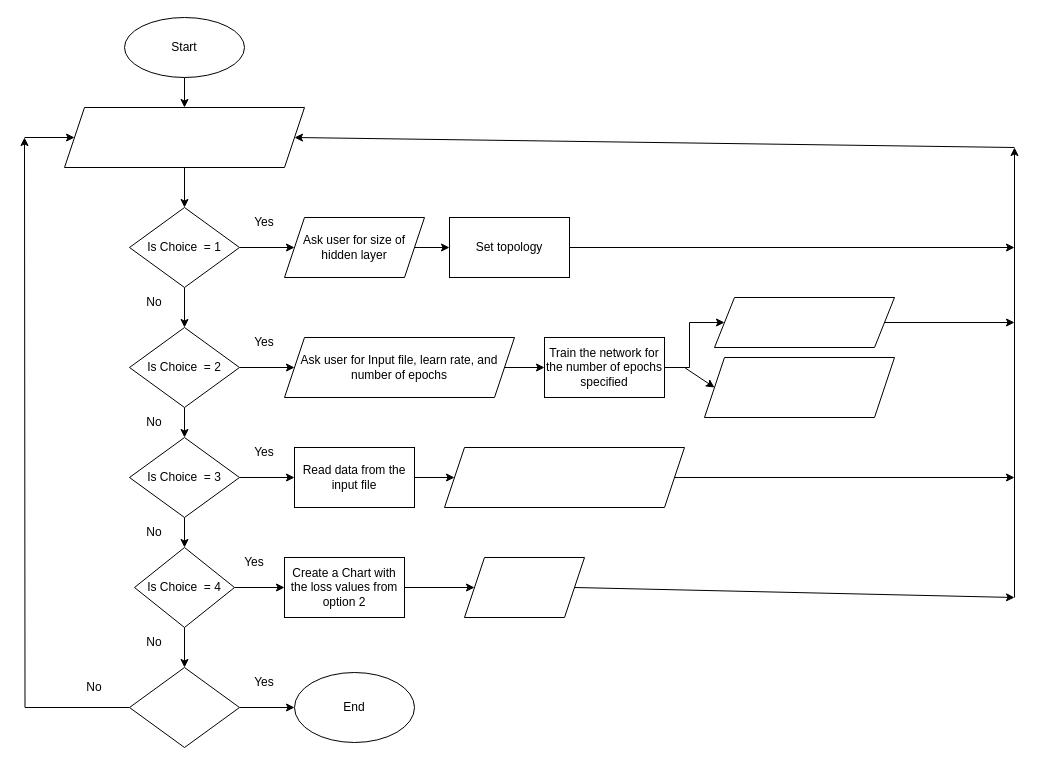
Image size: 1040x765. Some labels were removed from this diagram. The shapes that lost their labels are listed below. From the top down, each one's box as (x1, y1, x2, y2) in pixels, then its label:
(64, 106, 304, 168): Display menu and ask user for a choice
(714, 296, 894, 348): Every 100 epochs print the loss
(704, 356, 894, 418): Every 100 Epochs write the loss in the output_results file
(444, 446, 684, 508): Write the input data and its results in the output file
(464, 556, 584, 618): Display graph
(128, 666, 240, 748): Is Choice = 5
